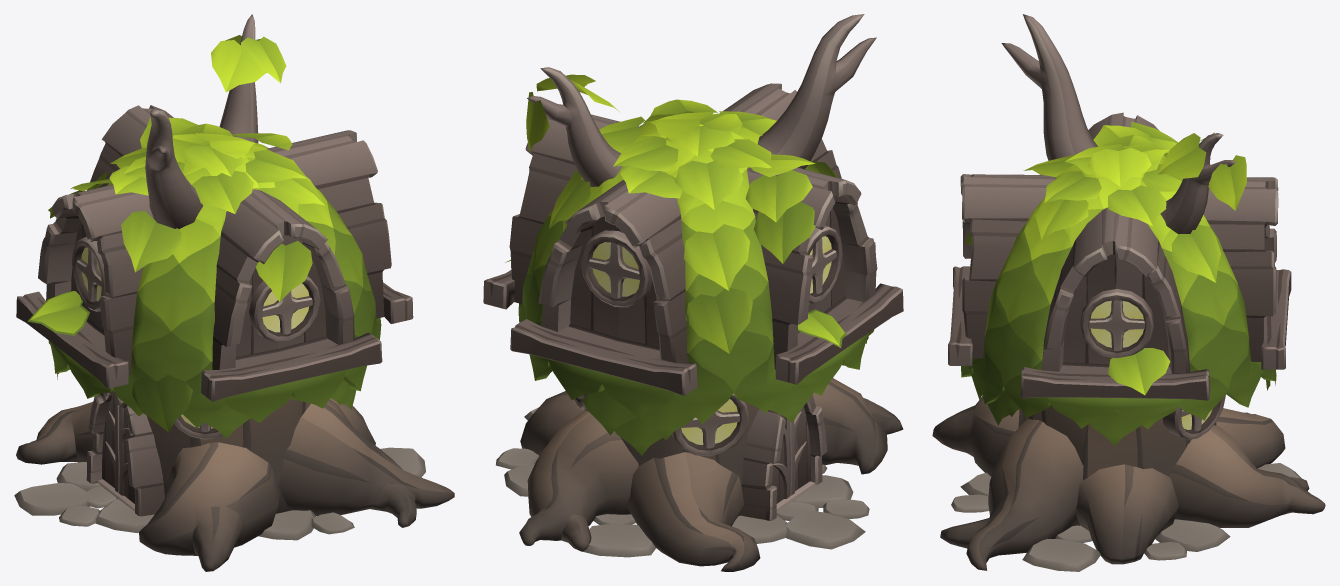
File: RTS_Elf_House_Lv2_-_Proto_Series.fbx
3 renders of one model, left to right at view 1: azimuth 30°, elevation 25°; view 2: azimuth 150°, elevation 25°; view 3: azimuth 270°, elevation 25°, orthographic. The views are drawn at different scales.
Visible parts, largest first — view 1: elf_house_Lv2; view 2: elf_house_Lv2; view 3: elf_house_Lv2.
Part boxes in pixels (x1,y1,x2,y2): elf_house_Lv2: (14,14,454,571); elf_house_Lv2: (483,14,903,571); elf_house_Lv2: (932,14,1325,571).
Bounding box in the file's own units: 734 × 871 × 726.
1 material, 1 textured.
